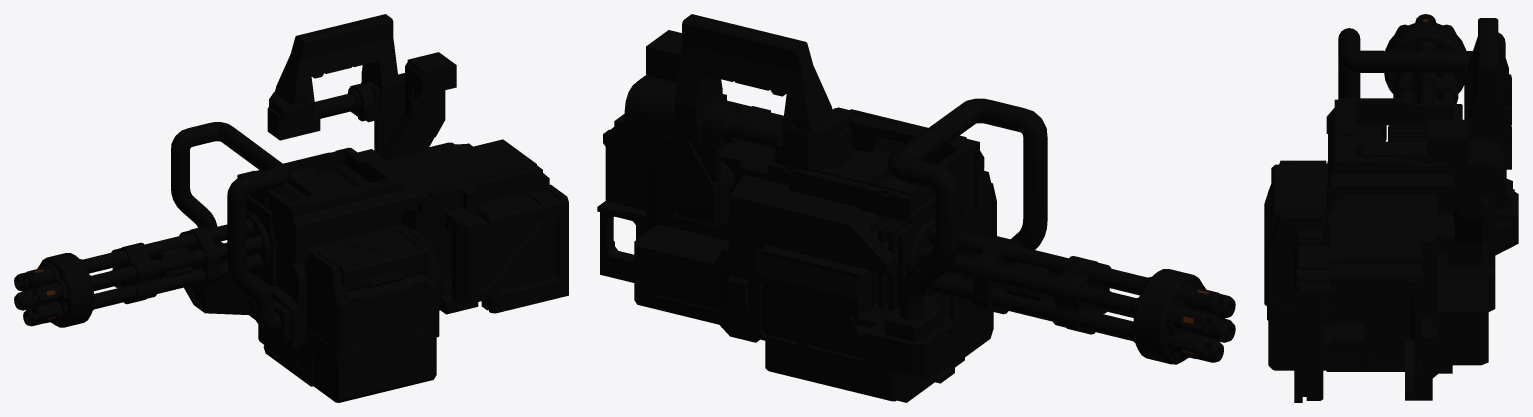
Rendered from Minigun.fbx.
3 renders of one model, left to right at view 1: azimuth 30°, elevation 25°; view 2: azimuth 150°, elevation 25°; view 3: azimuth 270°, elevation 25°, orthographic. The views are drawn at different scales.
Parts seen in each view (by area): view 1: Minigun, Minigun_Handle, Minigun_Barrel, Minigun_HandGuard, Minigun_CartridgeCover; view 2: Minigun, Minigun_Handle, Minigun_Barrel; view 3: Minigun, Minigun_Handle, Minigun_HandGuard, Minigun_Barrel, Minigun_CartridgeCover.
Part boxes in pixels (x1,y1,x2,y2): Minigun: (171,122,549,402); Minigun_Handle: (267,14,456,160); Minigun_Barrel: (14,212,276,327); Minigun_HandGuard: (445,184,568,313); Minigun_CartridgeCover: (308,224,429,296); Minigun: (597,98,1047,402); Minigun_Handle: (624,14,852,231); Minigun_Barrel: (877,216,1235,364); Minigun: (1264,28,1518,400); Minigun_Handle: (1427,18,1511,265); Minigun_HandGuard: (1294,228,1336,402); Minigun_Barrel: (1384,14,1466,103); Minigun_CartridgeCover: (1271,161,1332,236).
Bounding box in the file's own units: 923 × 515 × 361.
Materials: 1 (1 with a texture image).
